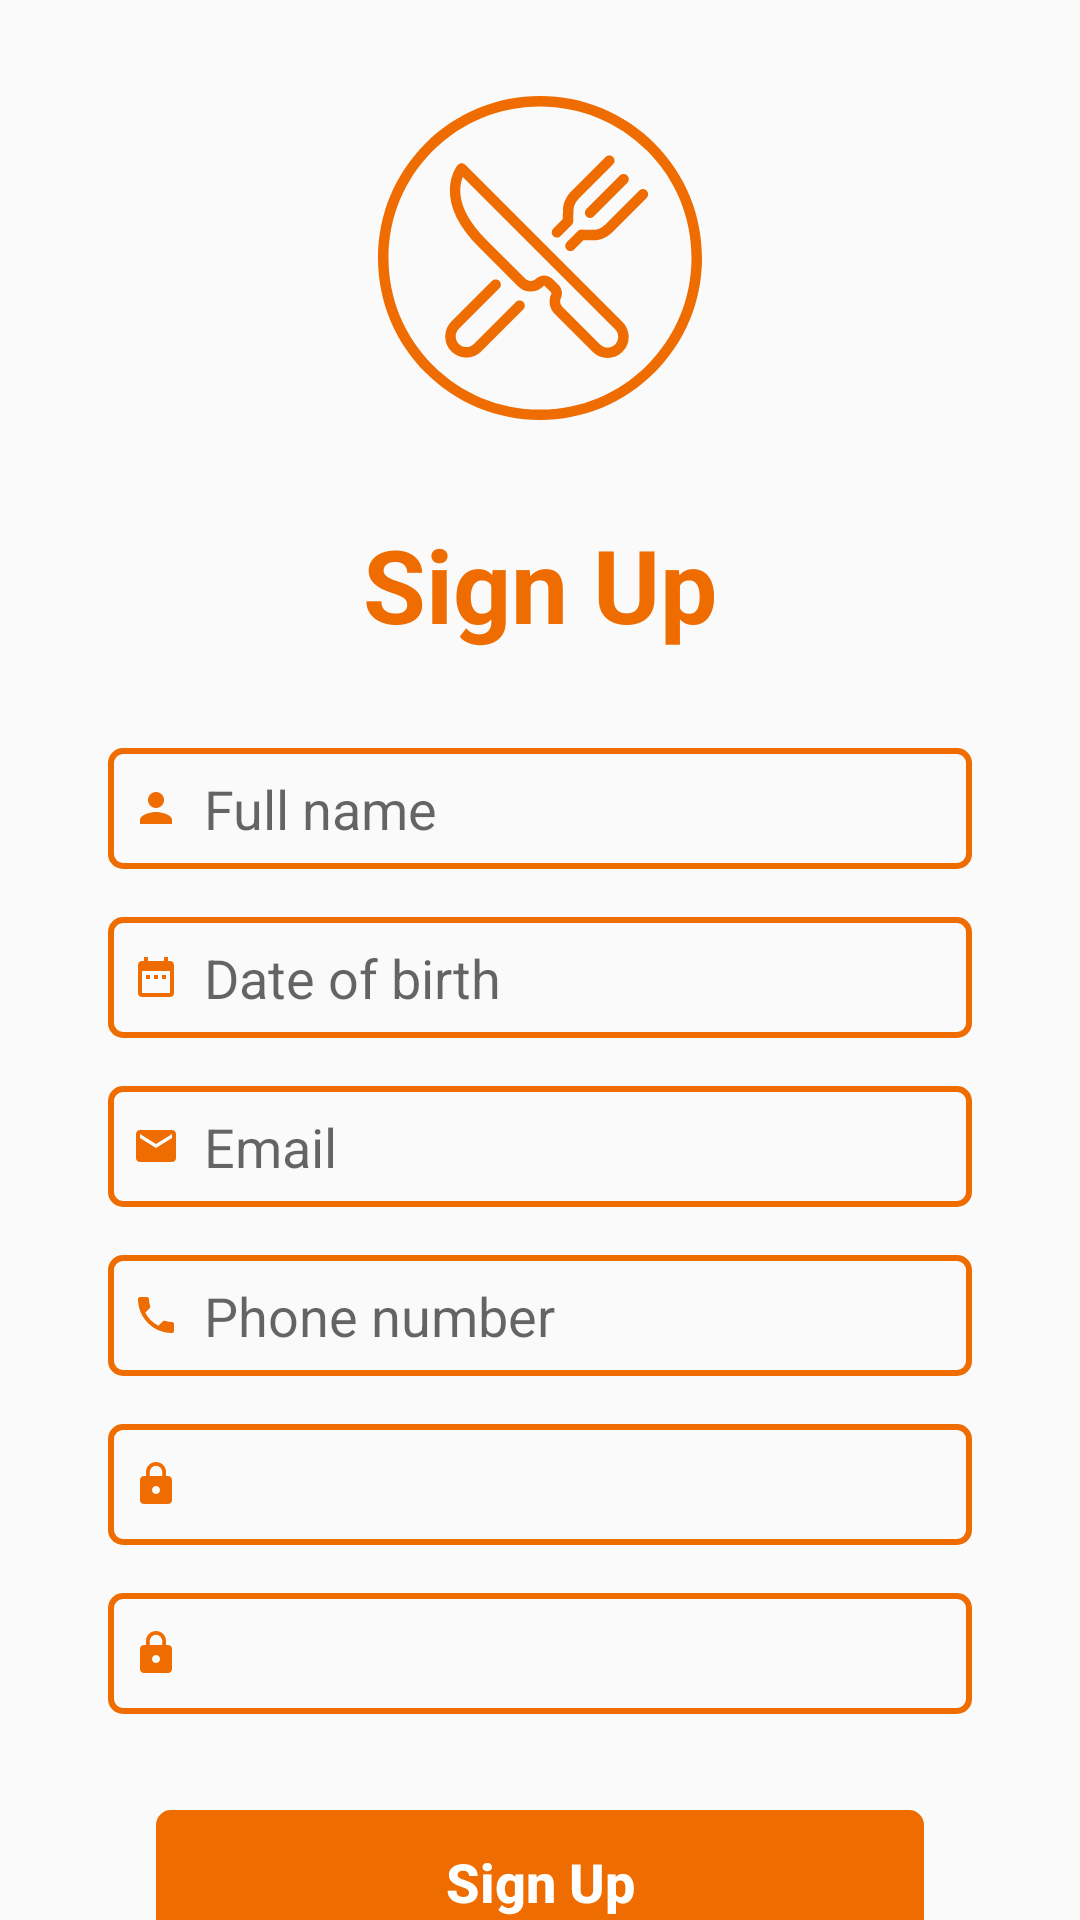

Icon click points for this 1080 × 1920 phone screenshot, format [x,y]:
knife and fork: [540,258]
